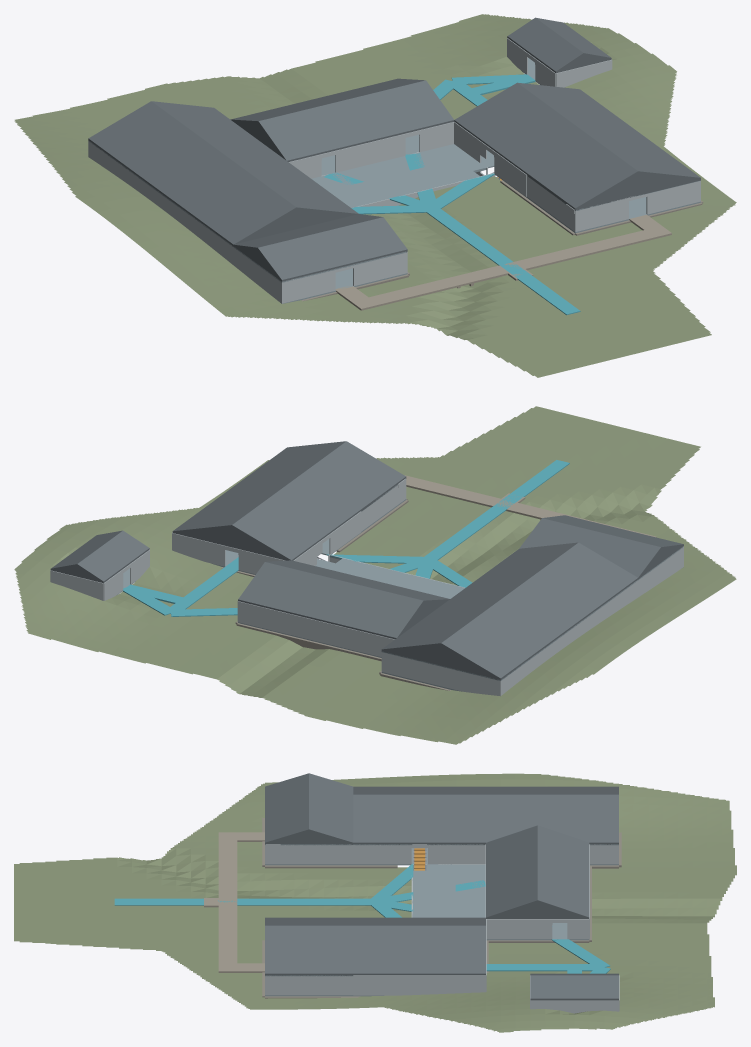
The model's file is constructed-circulation.glb.
The picture shows the model from 3 angles, top to bottom: view 1: azimuth 30°, elevation 25°; view 2: azimuth 150°, elevation 25°; view 3: azimuth 270°, elevation 25°; orthographic projection. The views are drawn at different scales.
Visible parts, largest first — view 1: Saved editor circulation terrain WLD-08, dormitory-and-mess roof west, radio-records roof south, laboratory roof west, generator-building roof west, Entrance rebuild Research courtyard structural deck region0, stores roof south, dormitory-and-mess roof east, Entrance rebuild WLD-08 continuous approach pavement region0, laboratory roof east, generator-building roof east, remote-shelter roof west (+23 smaller); view 2: Saved editor circulation terrain WLD-08, dormitory-and-mess roof west, radio-records roof north, generator-building roof west, laboratory roof west, dormitory-and-mess roof east, stores roof north, generator-building roof east, laboratory roof east, Entrance rebuild Research aligned aisle generator Nend, Entrance rebuild Research courtyard structural deck region0, Entrance rebuild WLD-08 continuous approach pavement region0 (+19 smaller); view 3: Saved editor circulation terrain WLD-08, dormitory-and-mess roof east, laboratory roof east, generator-building roof east, radio-records roof north, radio-records roof south, Entrance rebuild Research courtyard structural deck region0, Entrance rebuild WLD-08 continuous approach pavement region0, Wall dorm E, stores roof north, stores roof south, remote-shelter roof east (+19 smaller).
Boxes of the visible parts, x1,y1,x2,y2 form: Saved editor circulation terrain WLD-08: [14, 14, 736, 377]; dormitory-and-mess roof west: [454, 83, 637, 209]; radio-records roof south: [258, 80, 454, 161]; laboratory roof west: [161, 154, 296, 245]; generator-building roof west: [88, 101, 223, 192]; Entrance rebuild Research courtyard structural deck region0: [311, 144, 493, 207]; stores roof south: [257, 217, 407, 281]; dormitory-and-mess roof east: [517, 82, 700, 178]; Entrance rebuild WLD-08 continuous approach pavement region0: [335, 214, 671, 310]; laboratory roof east: [224, 154, 358, 214]; generator-building roof east: [152, 101, 286, 160]; remote-shelter roof west: [507, 17, 583, 72]; Saved editor circulation terrain WLD-08: [14, 406, 736, 744]; dormitory-and-mess roof west: [232, 441, 406, 560]; radio-records roof north: [238, 562, 423, 639]; generator-building roof west: [441, 593, 569, 679]; laboratory roof west: [510, 542, 638, 629]; dormitory-and-mess roof east: [172, 441, 345, 532]; stores roof north: [519, 518, 660, 578]; generator-building roof east: [381, 593, 508, 650]; laboratory roof east: [451, 542, 577, 598]; Entrance rebuild Research aligned aisle generator Nend: [381, 652, 501, 696]; Entrance rebuild Research courtyard structural deck region0: [315, 555, 464, 598]; Entrance rebuild WLD-08 continuous approach pavement region0: [404, 475, 656, 537]; Saved editor circulation terrain WLD-08: [14, 773, 736, 1032]; dormitory-and-mess roof east: [265, 925, 485, 974]; laboratory roof east: [353, 794, 485, 844]; generator-building roof east: [486, 794, 618, 844]; radio-records roof north: [537, 825, 589, 918]; radio-records roof south: [486, 825, 537, 918]; Entrance rebuild Research courtyard structural deck region0: [412, 864, 485, 917]; Entrance rebuild WLD-08 continuous approach pavement region0: [204, 832, 264, 972]; Wall dorm E: [353, 975, 485, 995]; stores roof north: [309, 773, 353, 843]; stores roof south: [265, 773, 308, 843]; remote-shelter roof east: [530, 975, 618, 999].
Size of the model in its own units: 83 by 9.24 by 98.
42 materials, 19 textured.
